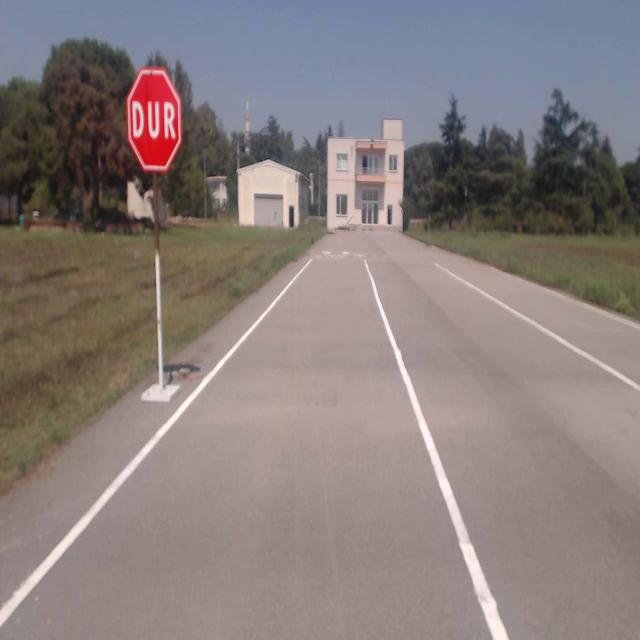dur: (126, 70, 182, 171)
